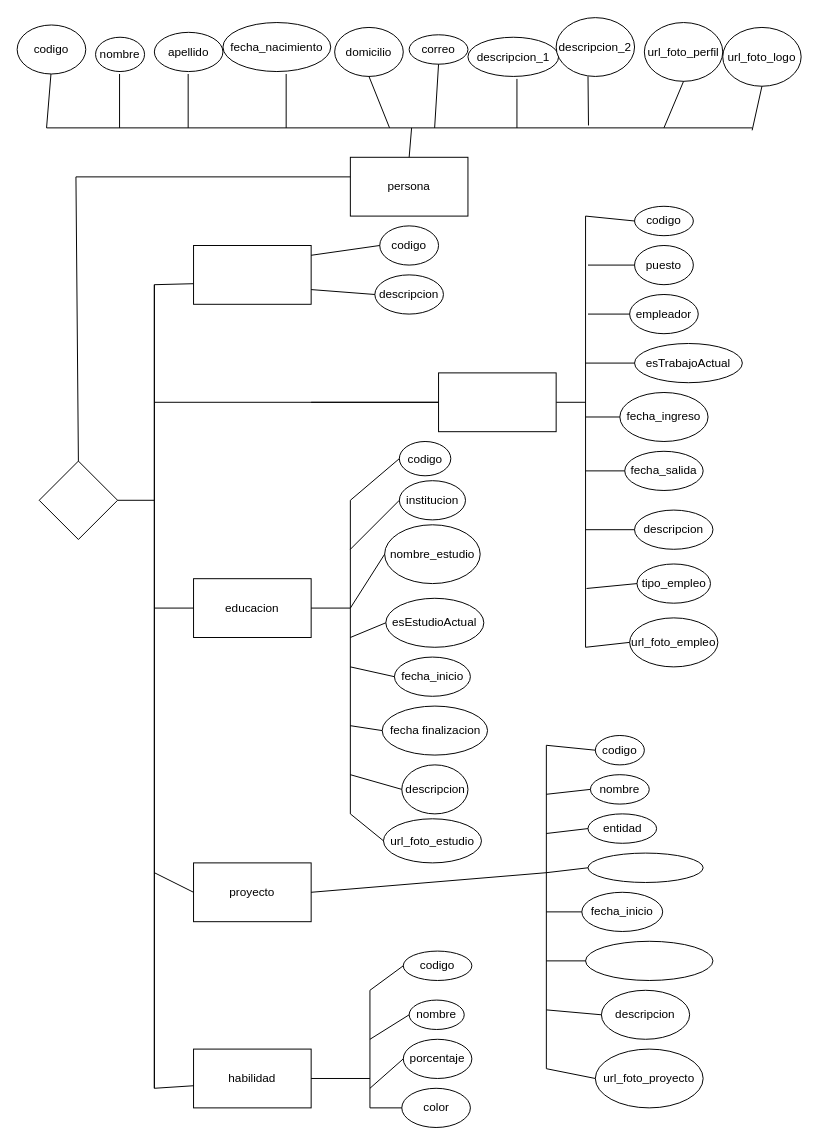
Image size: 818x1145. Some labels were removed from this diagram. Each missing label, with the centre of its shape:
esProyectoActual: the point at 645,867
experiencia_laboral: the point at 497,402
fecha_finalizacion: the point at 649,960
perfil: the point at 252,274
tiene: the point at 78,499
